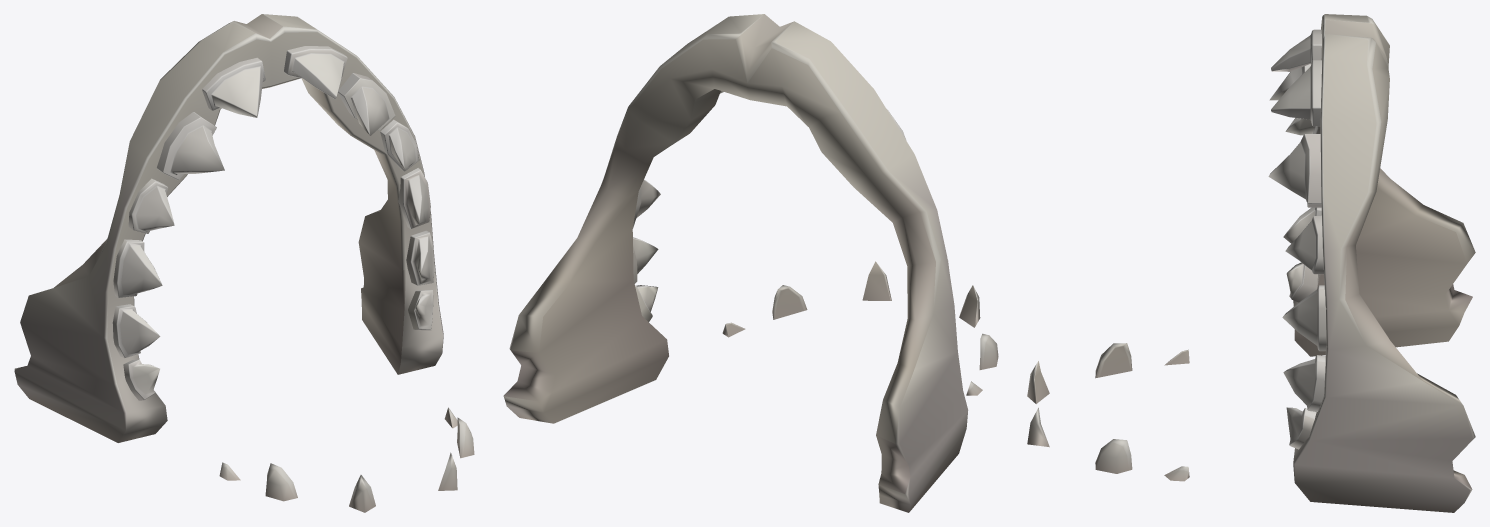
Rendered from SharkArch_0.glb.
3 views of the same model, side by side, from view 1: azimuth 30°, elevation 25°; view 2: azimuth 150°, elevation 25°; view 3: azimuth 270°, elevation 25° (orthographic). The views are drawn at different scales.
Parts seen in each view (by area): view 1: SharkArch; view 2: SharkArch; view 3: SharkArch.
Part boxes in pixels (left/top/right/bottom): SharkArch: left=14, top=14, right=474, bottom=512; SharkArch: left=503, top=14, right=998, bottom=512; SharkArch: left=1027, top=14, right=1475, bottom=512.
Size of the model in its own units: 0.9829 by 0.9271 by 0.9597.
